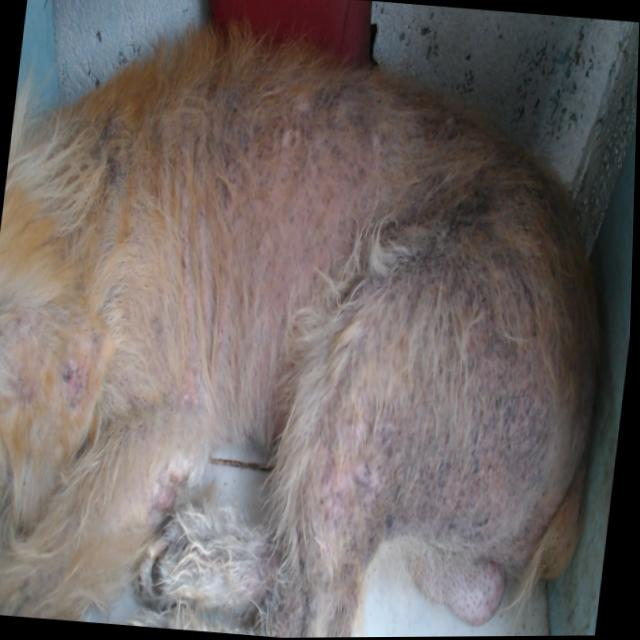demodicosis: (331, 376, 560, 555), (200, 99, 356, 265)
